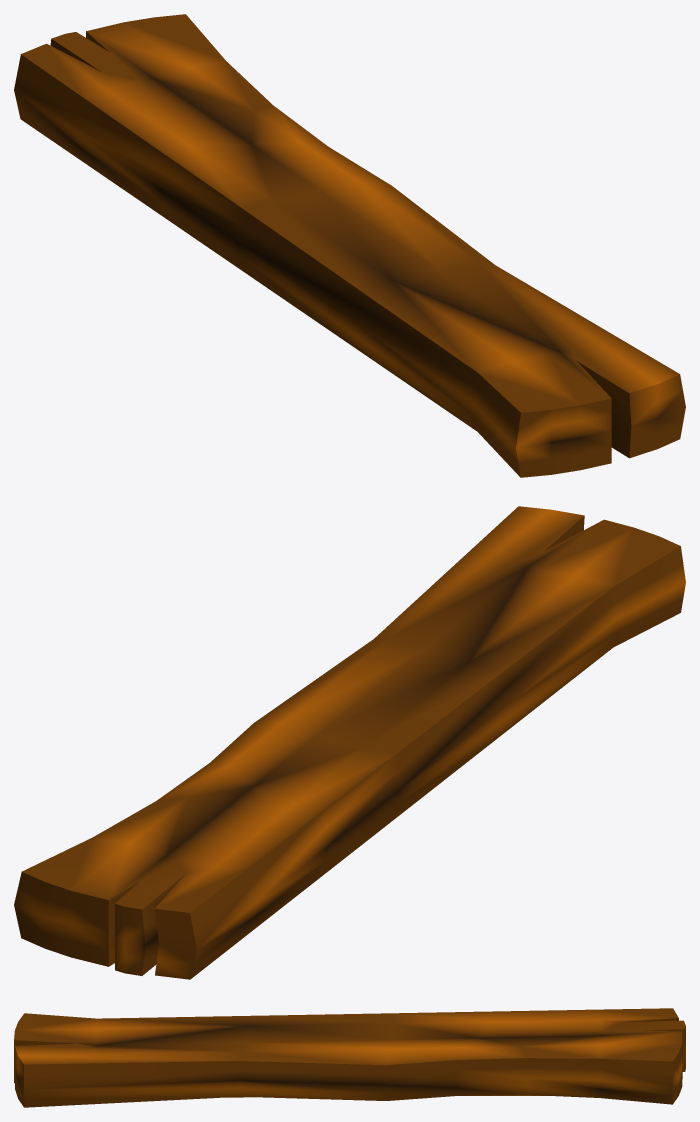
The model's file is Plank3_1.2.fbx.
3 renders of one model, top to bottom at view 1: azimuth 30°, elevation 25°; view 2: azimuth 150°, elevation 25°; view 3: azimuth 270°, elevation 25°, orthographic. The views are drawn at different scales.
Visible parts, largest first — view 1: Plank3; view 2: Plank3; view 3: Plank3.
Part boxes in pixels (left/top/right/bottom): Plank3: left=14, top=14, right=685, bottom=477; Plank3: left=14, top=506, right=685, bottom=979; Plank3: left=14, top=1008, right=685, bottom=1107.
Size of the model in its own units: 45.04 by 16.02 by 218.
